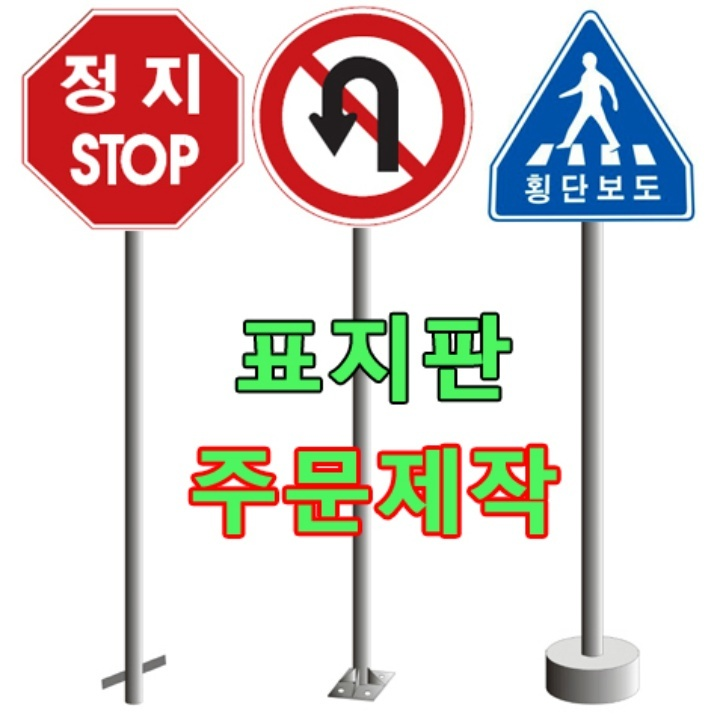cross: (555, 51, 629, 159)
